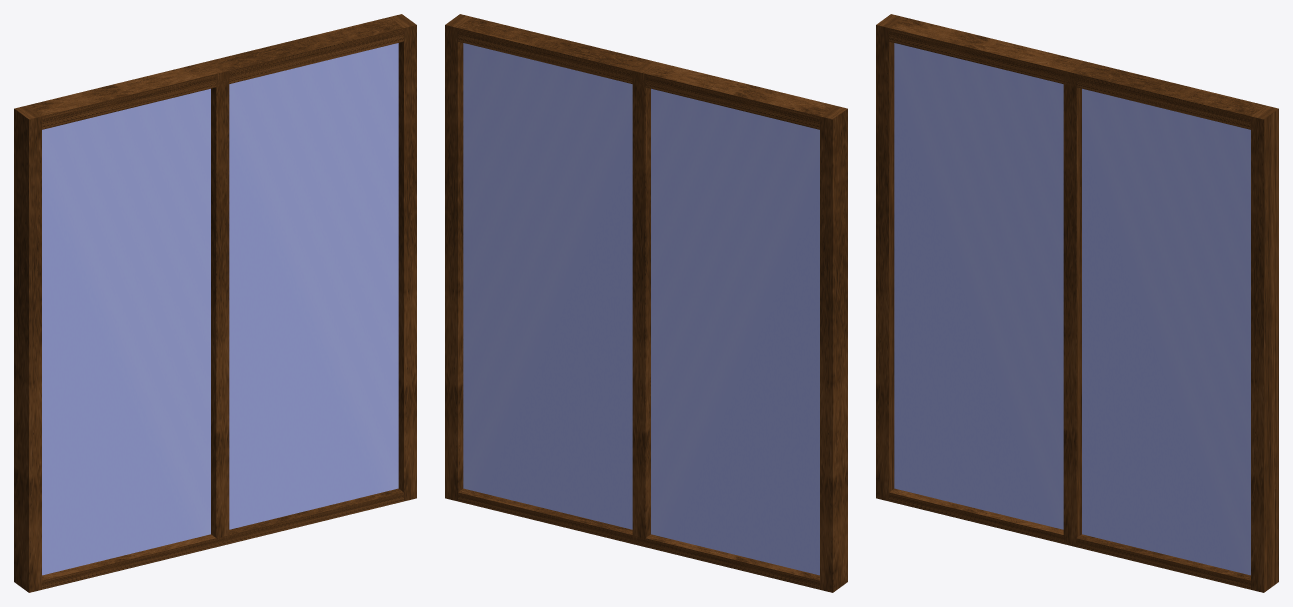
3 renders of one model, left to right at view 1: azimuth 30°, elevation 25°; view 2: azimuth 150°, elevation 25°; view 3: azimuth 330°, elevation 25°, orthographic.
Parts seen in each view (by area): view 1: door_glass, frame; view 2: door_glass, frame; view 3: door_glass, frame.
Boxes of the visible parts, x1,y1,x2,y2 form: door_glass: (42, 43, 398, 575); frame: (14, 14, 416, 592); door_glass: (463, 43, 819, 575); frame: (445, 14, 847, 592); door_glass: (894, 43, 1250, 575); frame: (876, 14, 1278, 592).
Size of the model in its own units: 1.8 by 2.1 by 0.12.
2 materials, 2 textured.
